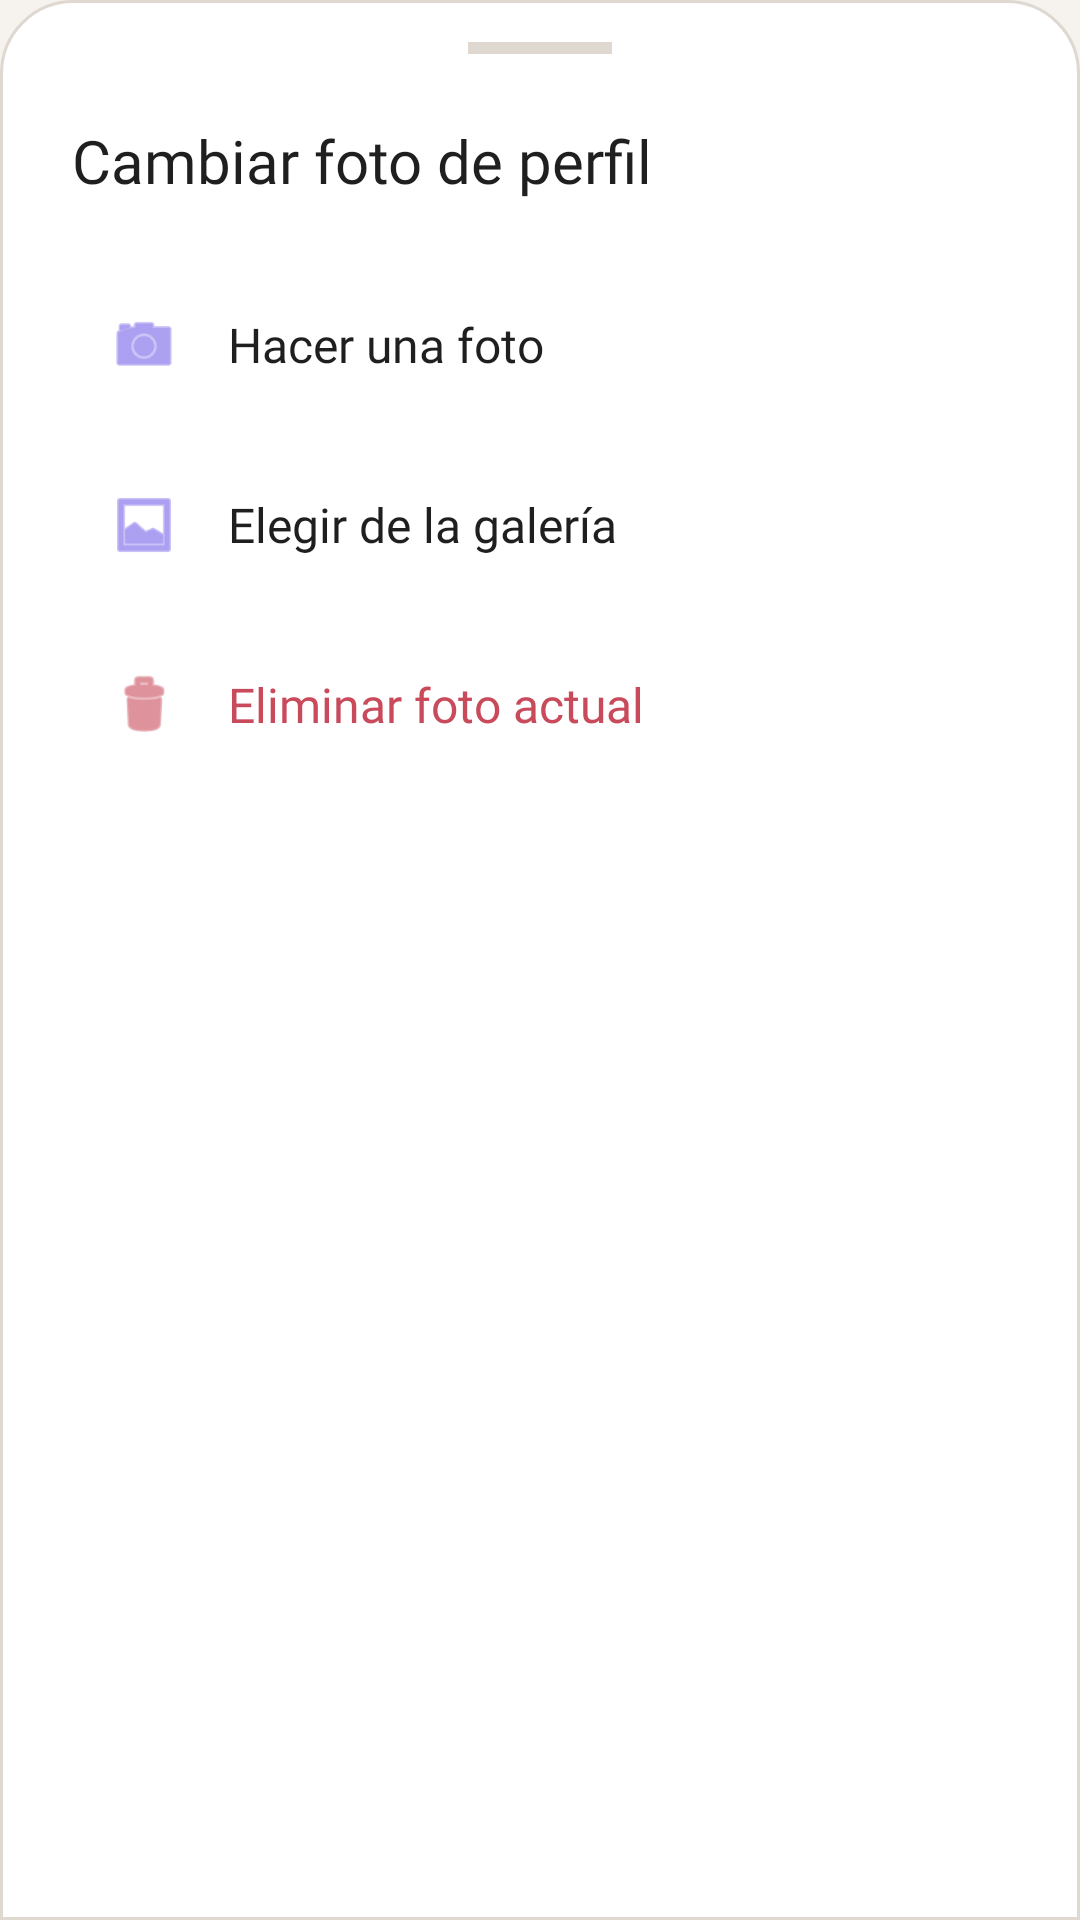

Locate icon controls on the screen. Image size 1080×1920, boxes as Rect(x1, y1, x2, y2).
camera: Rect(116, 322, 172, 366)
delete: Rect(124, 676, 165, 732)
gallery: Rect(117, 498, 171, 552)
